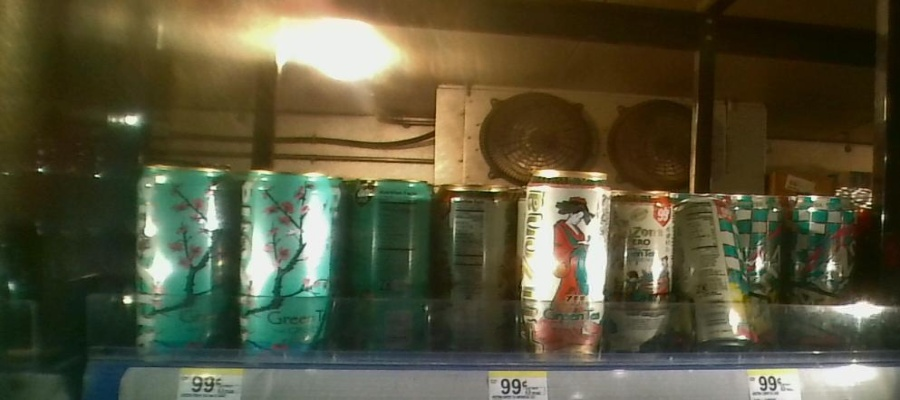bottle: (131, 158, 236, 362), (240, 166, 343, 361), (524, 166, 611, 366), (350, 167, 433, 363), (439, 174, 512, 361), (789, 188, 859, 361), (613, 181, 677, 359), (681, 195, 749, 361), (753, 192, 786, 356)
